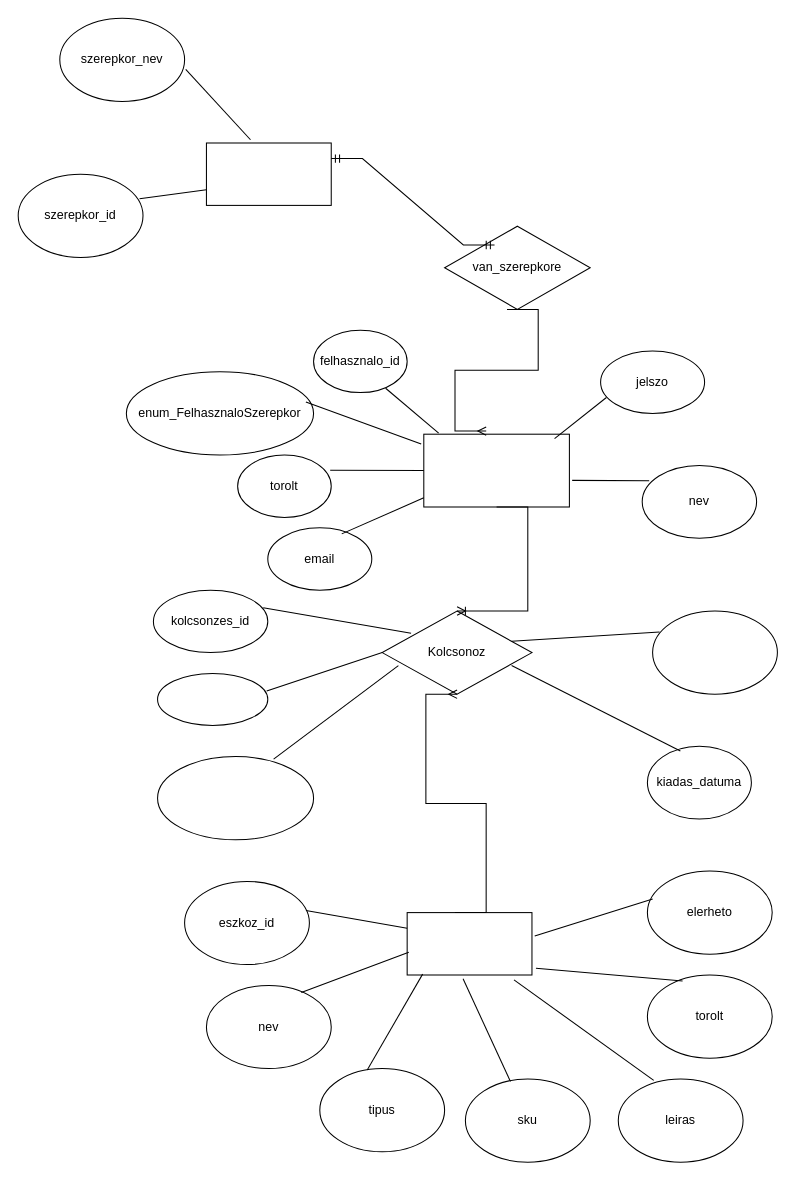
The diagram is 796 pixels wide and 1180 high, and some of its shapes have lost their labels. Here are the shapes that lost their labels. From the top down, the box of each, then its label:
(205, 142, 331, 205): Szerepkor
(423, 433, 569, 507): Felhasznalo
(652, 610, 777, 694): statusz
(157, 672, 268, 725): hatarido
(157, 756, 314, 840): visszavetel_datuma
(406, 912, 532, 975): Eszkoz
